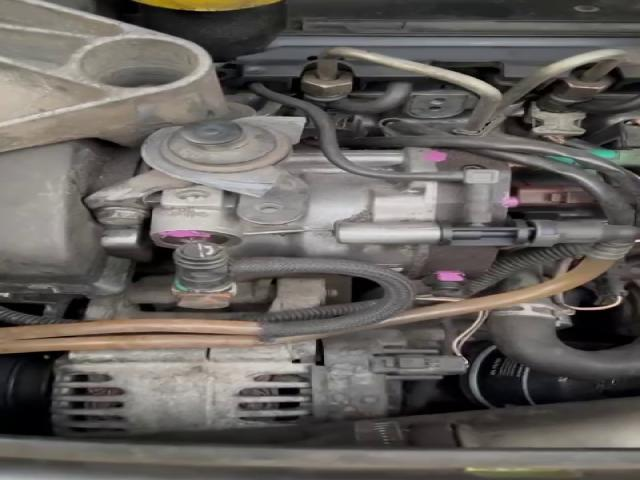alternator: (49, 328, 474, 436)
high_pressure_pump: (150, 143, 529, 293)
